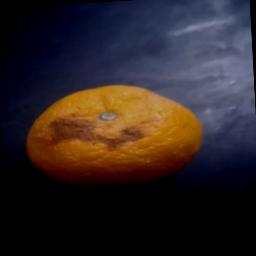Orange Unripe: (14, 74, 212, 198)
